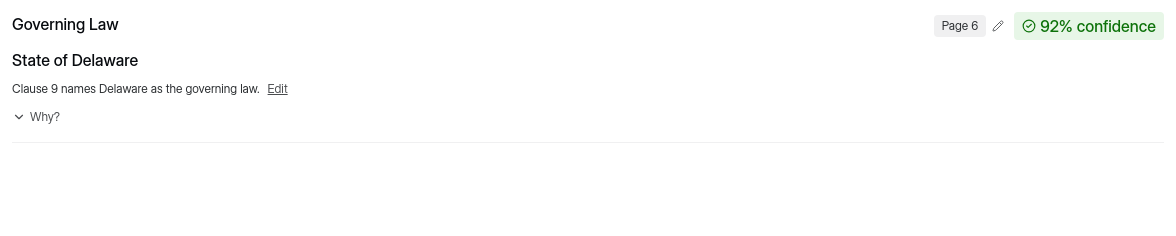
Test: WhySection (spec 07 v1.1 §C) › falls back to the current page when the model recorded none (L11)
Click the button "Why?".
click(36, 117)  # box 12,108 -> 60,126
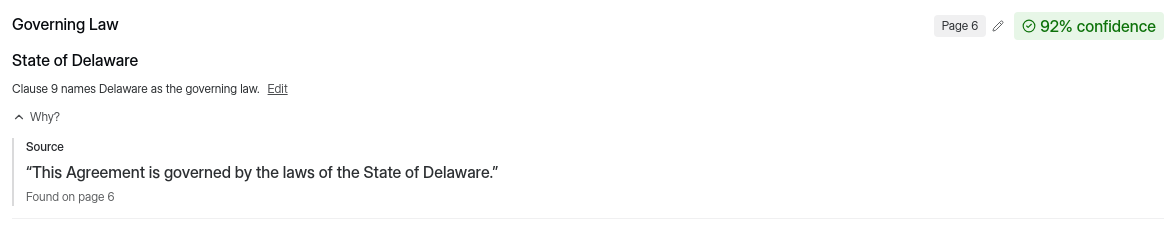
Expected: the text "Found on page 6" is shown, 26,189 -> 114,204
